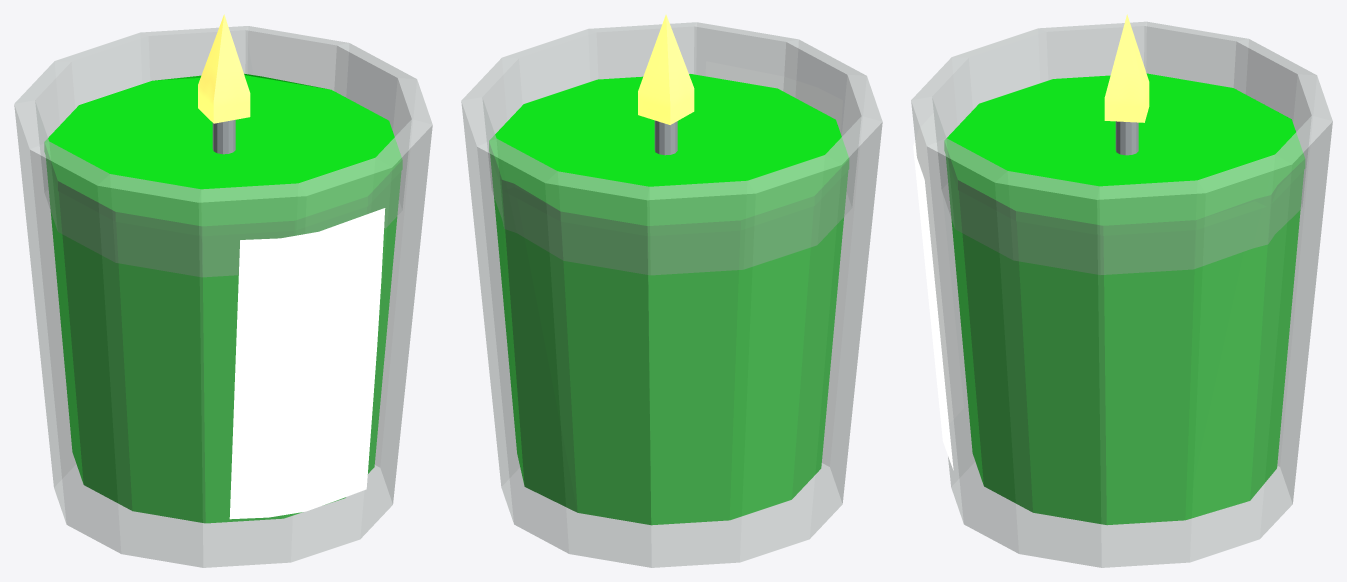
Rendered from tinyVotiveIllumin80.glb.
3 renders of one model, left to right at view 1: azimuth 30°, elevation 25°; view 2: azimuth 150°, elevation 25°; view 3: azimuth 270°, elevation 25°, orthographic.
Visible parts, largest first — view 1: glass, XBase, senora, Flame, Wick; view 2: glass, XBase, Flame, senora, Wick; view 3: glass, XBase, senora, Flame, Wick.
Part boxes in pixels (x1=…): glass: x1=14, y1=26, x2=432, y2=567; XBase: x1=44, y1=73, x2=402, y2=523; senora: x1=229, y1=208, x2=385, y2=519; Flame: x1=198, y1=14, x2=250, y2=123; Wick: x1=212, y1=120, x2=235, y2=154; glass: x1=461, y1=22, x2=882, y2=567; XBase: x1=489, y1=74, x2=848, y2=525; Flame: x1=638, y1=14, x2=694, y2=124; senora: x1=706, y1=61, x2=842, y2=132; Wick: x1=654, y1=120, x2=677, y2=155; glass: x1=911, y1=21, x2=1332, y2=567; XBase: x1=944, y1=73, x2=1304, y2=524; senora: x1=913, y1=113, x2=963, y2=470; Flame: x1=1104, y1=14, x2=1149, y2=122; Wick: x1=1115, y1=121, x2=1138, y2=155.
Bounding box in the file's own units: 1.46 × 1.85 × 1.46.
